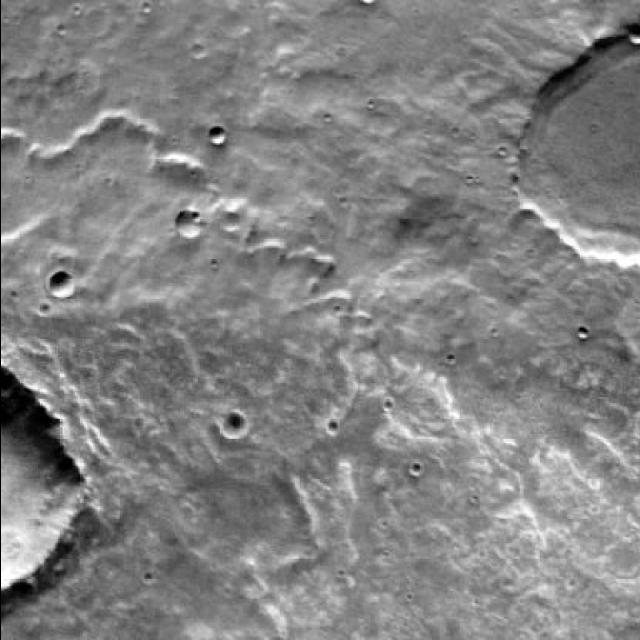crater: (517, 46, 640, 278), (0, 359, 89, 596), (44, 270, 72, 298), (173, 212, 199, 238), (218, 413, 242, 439), (207, 126, 224, 144), (626, 34, 640, 54), (359, 0, 379, 11)
